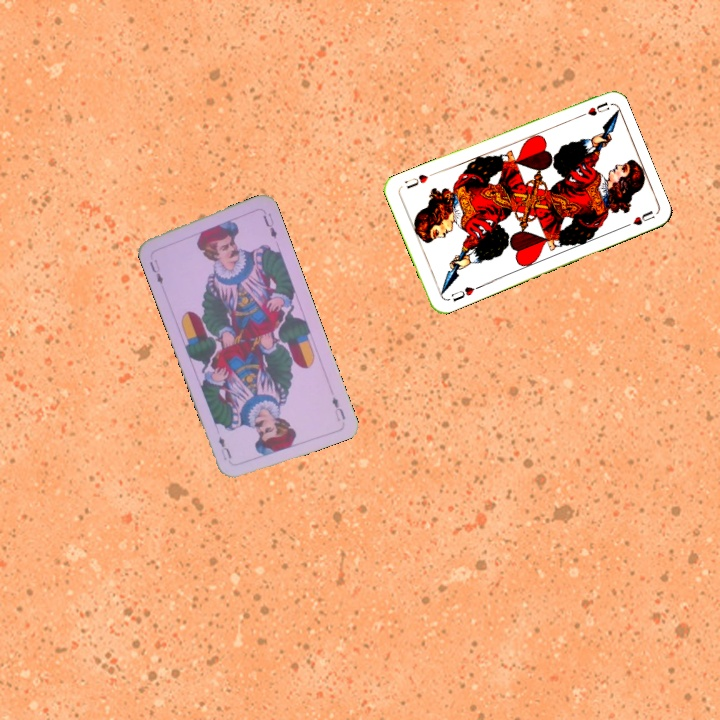EU: (145, 255, 166, 287), (328, 393, 348, 424)
HU: (573, 98, 612, 121), (447, 282, 482, 305)
